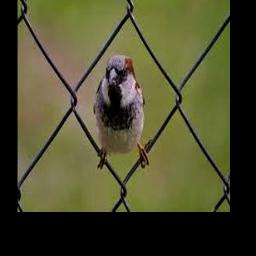Sparrow: (94, 54, 145, 157)
